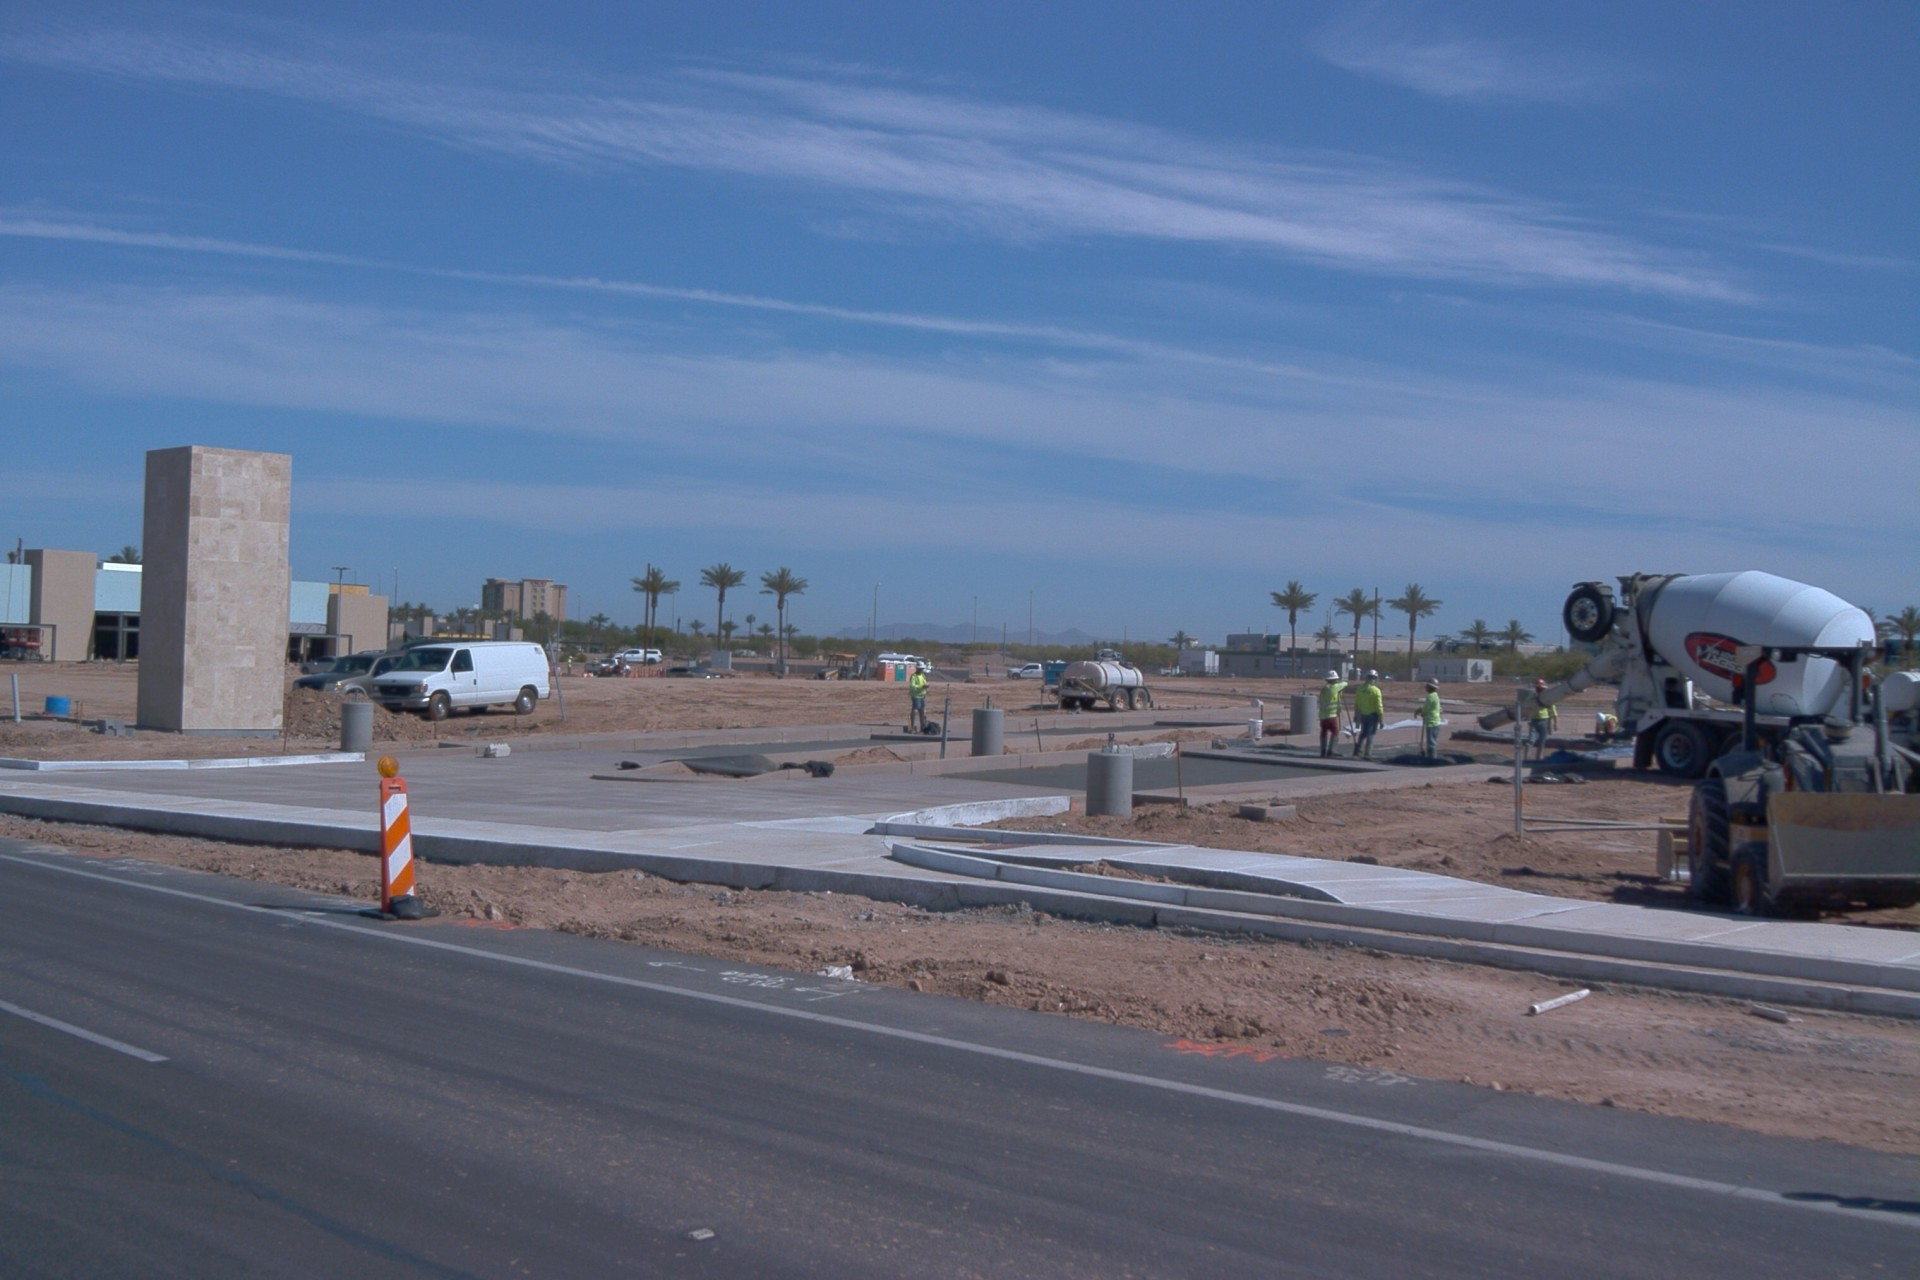TYPE_PEDESTRIAN: (1520, 680, 1560, 765), (1353, 669, 1387, 761), (1315, 670, 1349, 760), (1412, 678, 1441, 767), (907, 661, 933, 736), (1595, 711, 1622, 744), (565, 655, 573, 675), (984, 659, 990, 678), (590, 653, 598, 664)
TYPE_VEHICLE: (1470, 568, 1919, 781), (1650, 639, 1920, 920), (372, 640, 551, 723), (290, 648, 406, 706), (1039, 657, 1154, 713), (818, 644, 877, 683), (875, 650, 932, 674), (296, 654, 343, 676), (611, 646, 661, 665), (583, 657, 632, 676), (1004, 663, 1043, 681), (665, 668, 723, 679), (1094, 647, 1127, 660), (1158, 666, 1179, 678)
